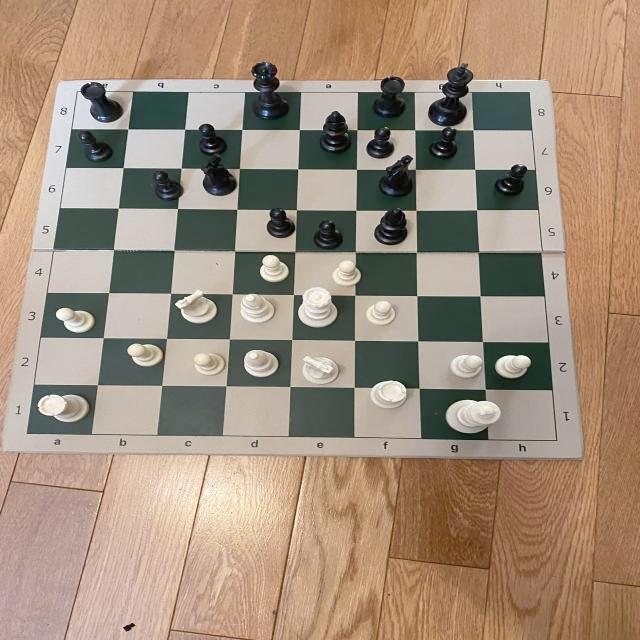chess-table-corners: (550, 435, 568, 448), (20, 428, 36, 440), (520, 89, 536, 100), (73, 88, 85, 100)
